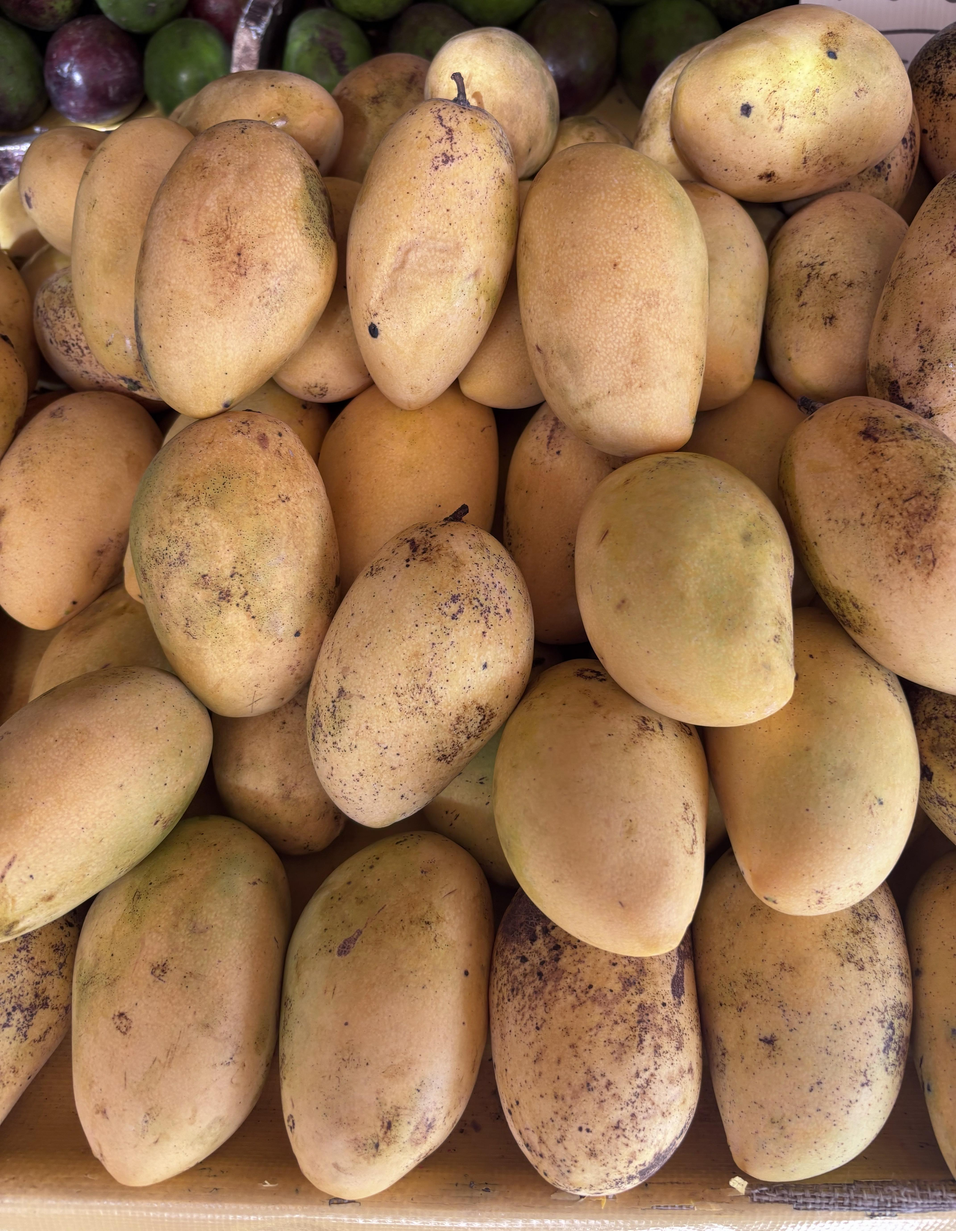mango: (73, 816, 290, 1186), (279, 832, 494, 1200), (307, 505, 534, 828), (129, 411, 339, 718), (134, 119, 337, 417), (516, 143, 708, 457), (575, 452, 794, 727), (347, 73, 518, 409), (670, 5, 912, 202)
occluded: (693, 851, 912, 1182), (705, 609, 920, 915), (490, 890, 702, 1197), (492, 659, 708, 957), (0, 666, 212, 942), (779, 396, 956, 694), (0, 391, 162, 630), (318, 382, 499, 595), (72, 117, 192, 396), (765, 192, 908, 402), (504, 402, 622, 644), (867, 173, 956, 439), (212, 683, 345, 854), (274, 177, 372, 403), (423, 27, 559, 178), (681, 181, 768, 412), (172, 70, 343, 173), (0, 909, 81, 1122), (682, 380, 805, 520), (905, 853, 956, 1177), (29, 585, 172, 700), (779, 106, 920, 216), (424, 731, 513, 883), (328, 53, 429, 181), (458, 262, 543, 409), (15, 126, 108, 256), (34, 266, 126, 392), (634, 42, 709, 180), (909, 684, 956, 844), (909, 22, 956, 181), (245, 379, 330, 460), (0, 251, 39, 391), (0, 177, 46, 265), (550, 115, 631, 157), (0, 335, 27, 457), (124, 544, 143, 603), (164, 414, 195, 443)
